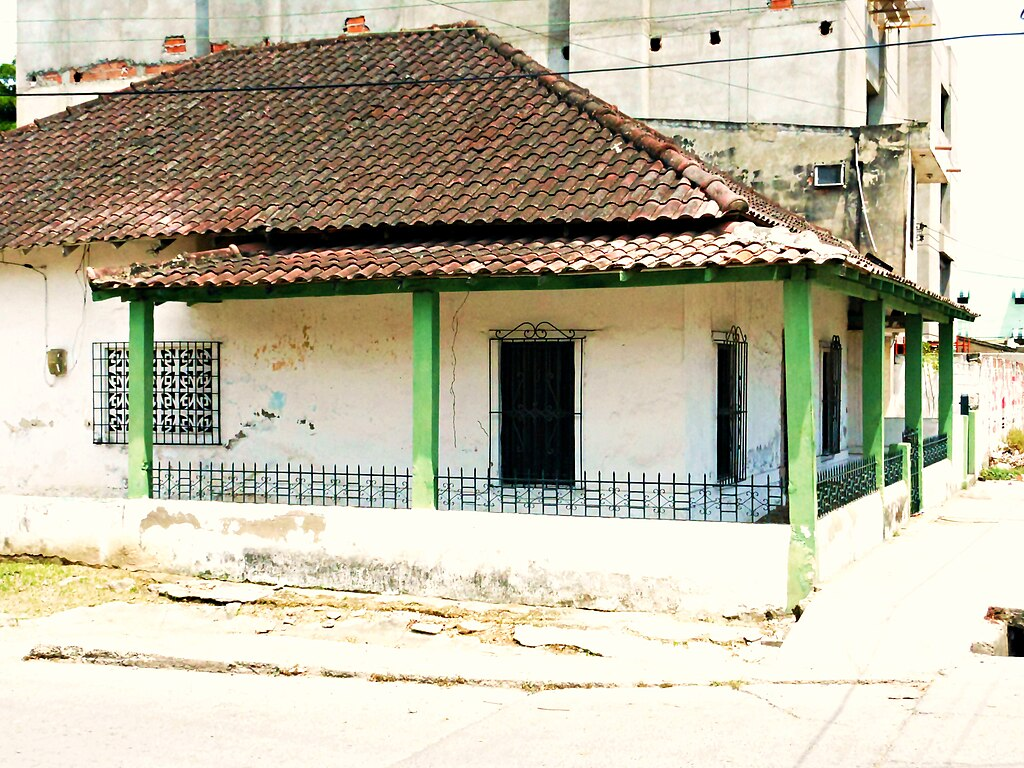House: (4, 43, 977, 599)
